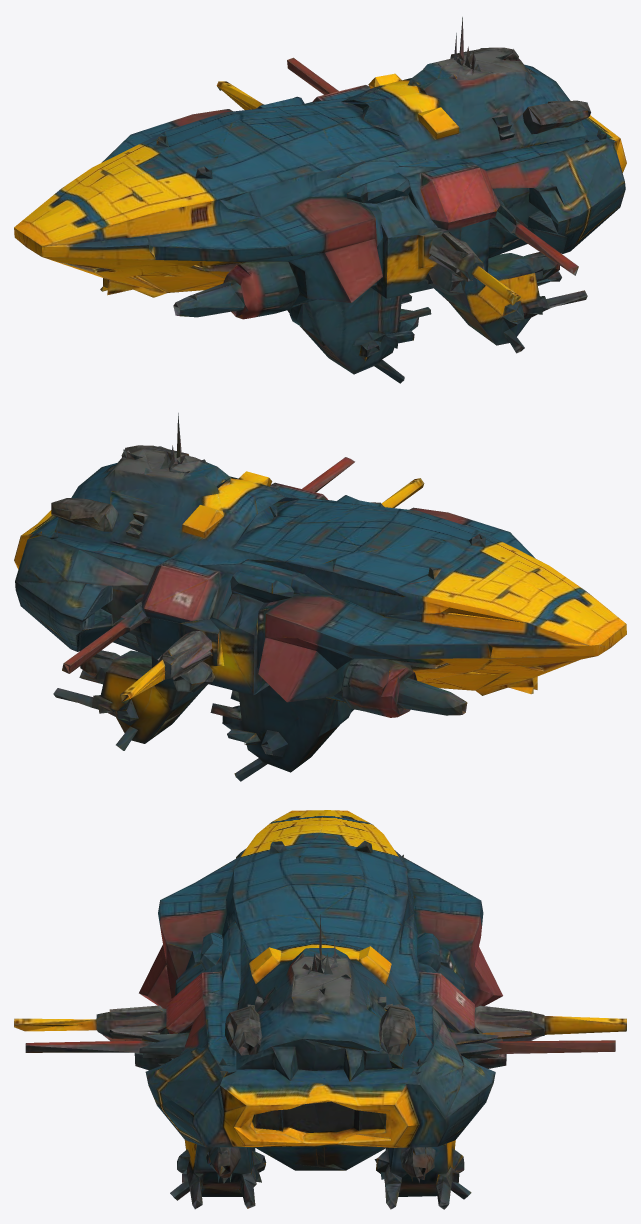
The model's file is nation-g-cruiser.glb.
3 renders of one model, top to bottom at view 1: azimuth 30°, elevation 25°; view 2: azimuth 150°, elevation 25°; view 3: azimuth 270°, elevation 25°, orthographic. The views are drawn at different scales.
Bounding box in the file's own units: 1.9 × 0.9761 × 1.74.
Materials: 1 (1 with a texture image).
